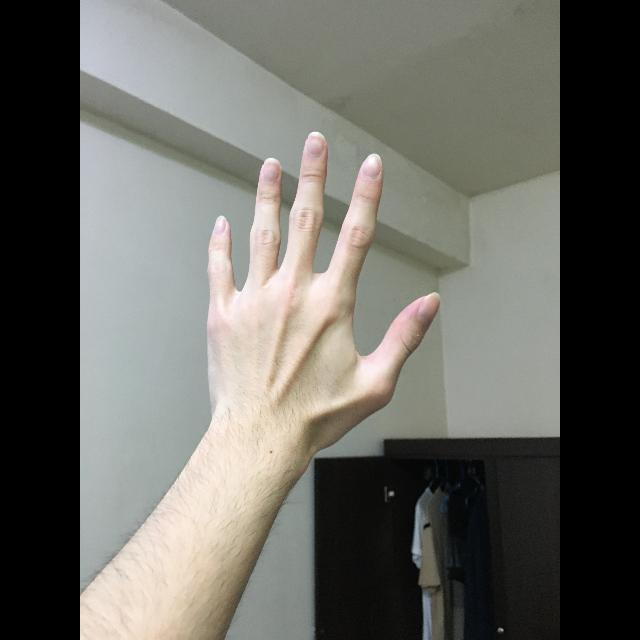bare_hand: (207, 131, 442, 421)
